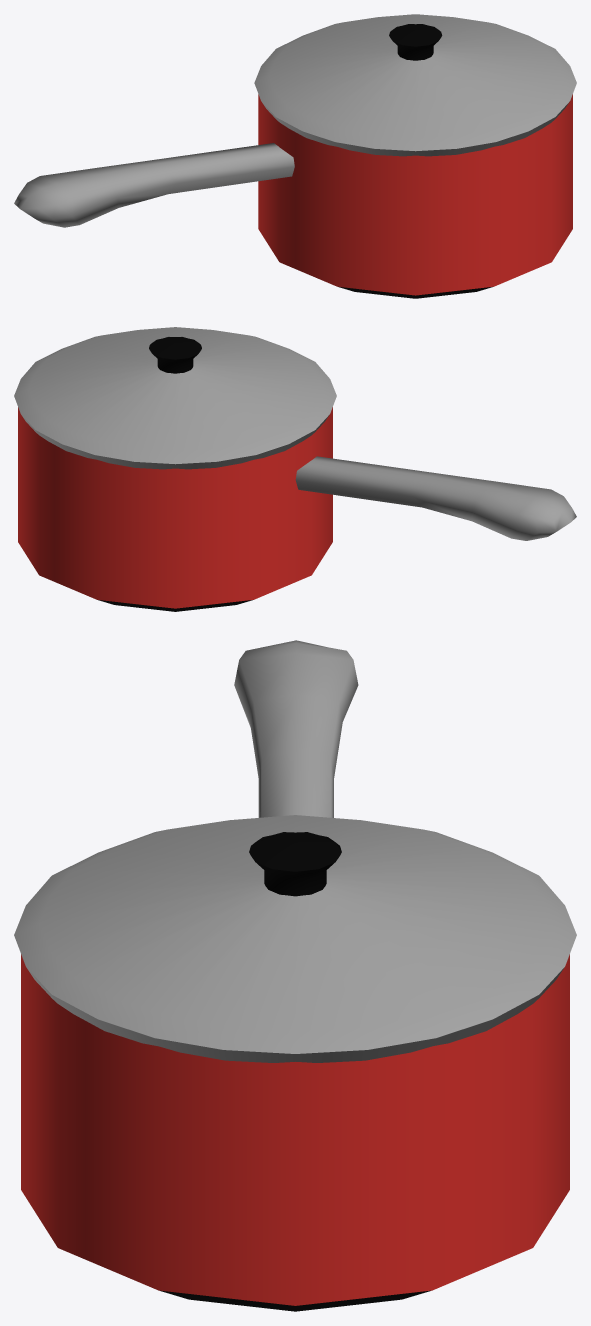
Rendered from pot.glb.
3 views of the same model, one above another, from view 1: azimuth 30°, elevation 25°; view 2: azimuth 150°, elevation 25°; view 3: azimuth 270°, elevation 25° (orthographic). The views are drawn at different scales.
Visible parts, largest first — view 1: sauce pot; view 2: sauce pot; view 3: sauce pot.
Boxes of the visible parts, x1,y1,x2,y2 form: sauce pot: [14, 14, 576, 298]; sauce pot: [14, 327, 576, 611]; sauce pot: [14, 640, 576, 1311].
Size of the model in its own units: 0.4641 by 0.18 by 0.2424.
